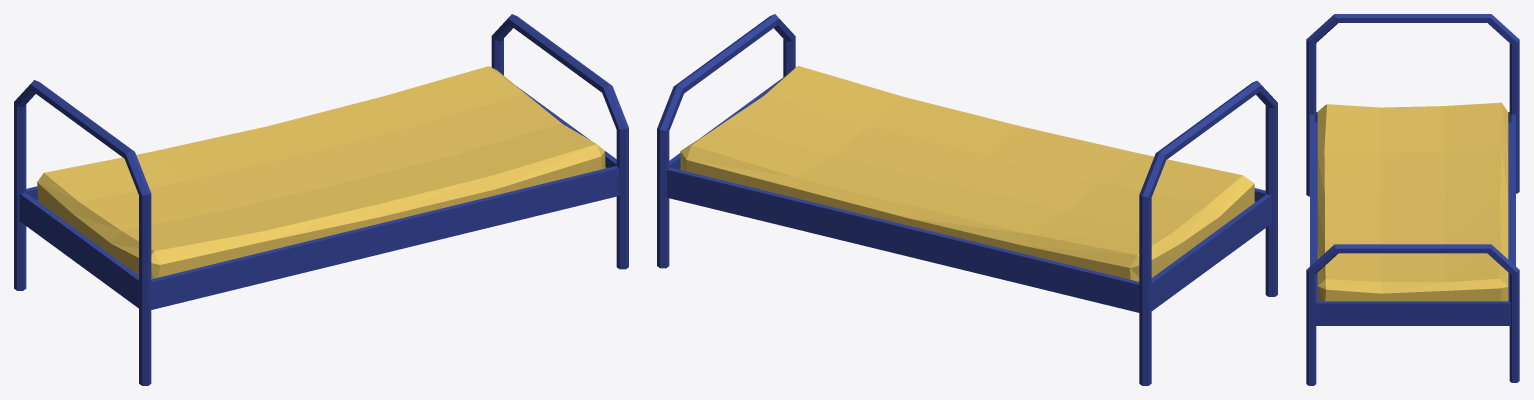
Rendered from Bed_03.fbx.
3 views of the same model, side by side, from view 1: azimuth 30°, elevation 25°; view 2: azimuth 150°, elevation 25°; view 3: azimuth 270°, elevation 25° (orthographic). The views are drawn at different scales.
Parts seen in each view (by area): view 1: Bed_01; view 2: Bed_01; view 3: Bed_01.
Boxes of the visible parts, x1,y1,x2,y2 form: Bed_01: [14, 14, 628, 385]; Bed_01: [657, 14, 1277, 385]; Bed_01: [1306, 14, 1519, 385].
Bounding box in the file's own units: 183 × 80.2 × 85.66.
Materials: 1 (1 with a texture image).
